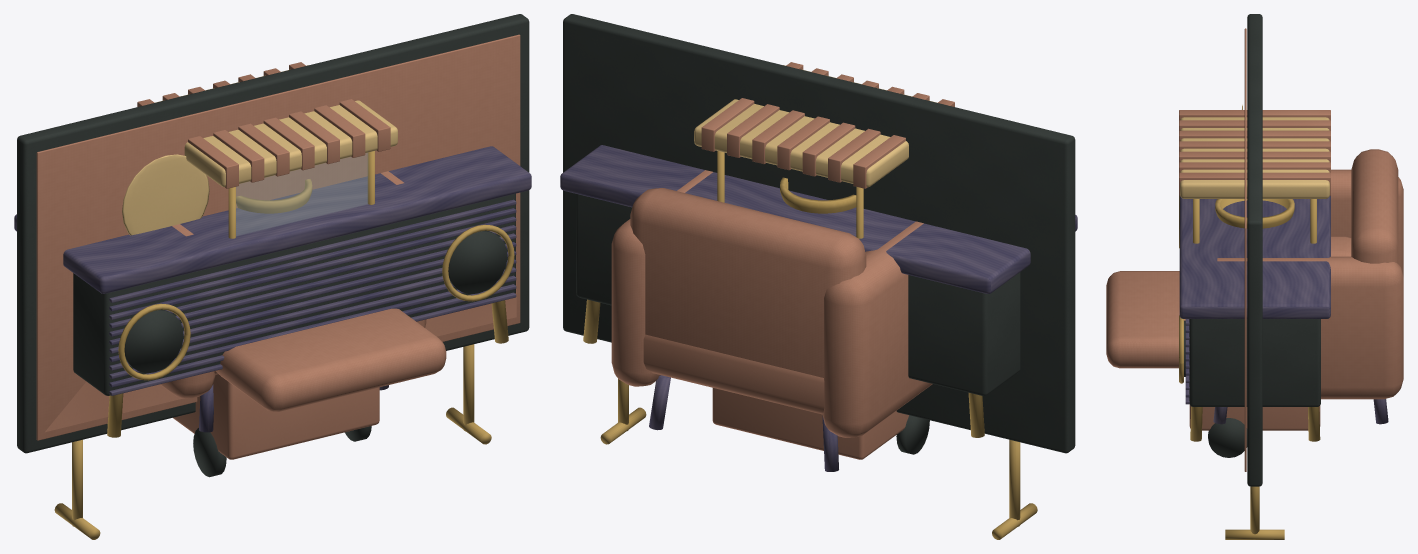
Rendered from tidy-life-cinema.glb.
The picture shows the model from 3 angles, left to right: view 1: azimuth 30°, elevation 25°; view 2: azimuth 150°, elevation 25°; view 3: azimuth 270°, elevation 25°; orthographic projection. The views are drawn at different scales.
Parts seen in each view (by area): view 1: life_cinema_screen_mesh, life_cinema_mediaconsole_mesh, life_cinema_popcorntrolley_mesh, life_cinema_recliner_mesh; view 2: life_cinema_screen_mesh, life_cinema_recliner_mesh, life_cinema_mediaconsole_mesh, life_cinema_popcorntrolley_mesh; view 3: life_cinema_mediaconsole_mesh, life_cinema_recliner_mesh, life_cinema_popcorntrolley_mesh, life_cinema_screen_mesh.
Part boxes in pixels (<box>): life_cinema_screen_mesh: <box>17,14,529,539</box>; life_cinema_mediaconsole_mesh: <box>14,146,531,437</box>; life_cinema_popcorntrolley_mesh: <box>137,62,397,477</box>; life_cinema_recliner_mesh: <box>160,171,446,432</box>; life_cinema_screen_mesh: <box>563,14,1075,539</box>; life_cinema_recliner_mesh: <box>611,170,932,471</box>; life_cinema_mediaconsole_mesh: <box>560,145,1077,437</box>; life_cinema_popcorntrolley_mesh: <box>694,62,954,459</box>; life_cinema_mediaconsole_mesh: <box>1179,196,1330,441</box>; life_cinema_recliner_mesh: <box>1106,149,1403,424</box>; life_cinema_popcorntrolley_mesh: <box>1179,110,1330,457</box>; life_cinema_screen_mesh: <box>1225,14,1284,539</box>.
Bounding box in the file's own units: 0.75 × 0.57 × 0.45.
Materials: 7 (7 with a texture image).
